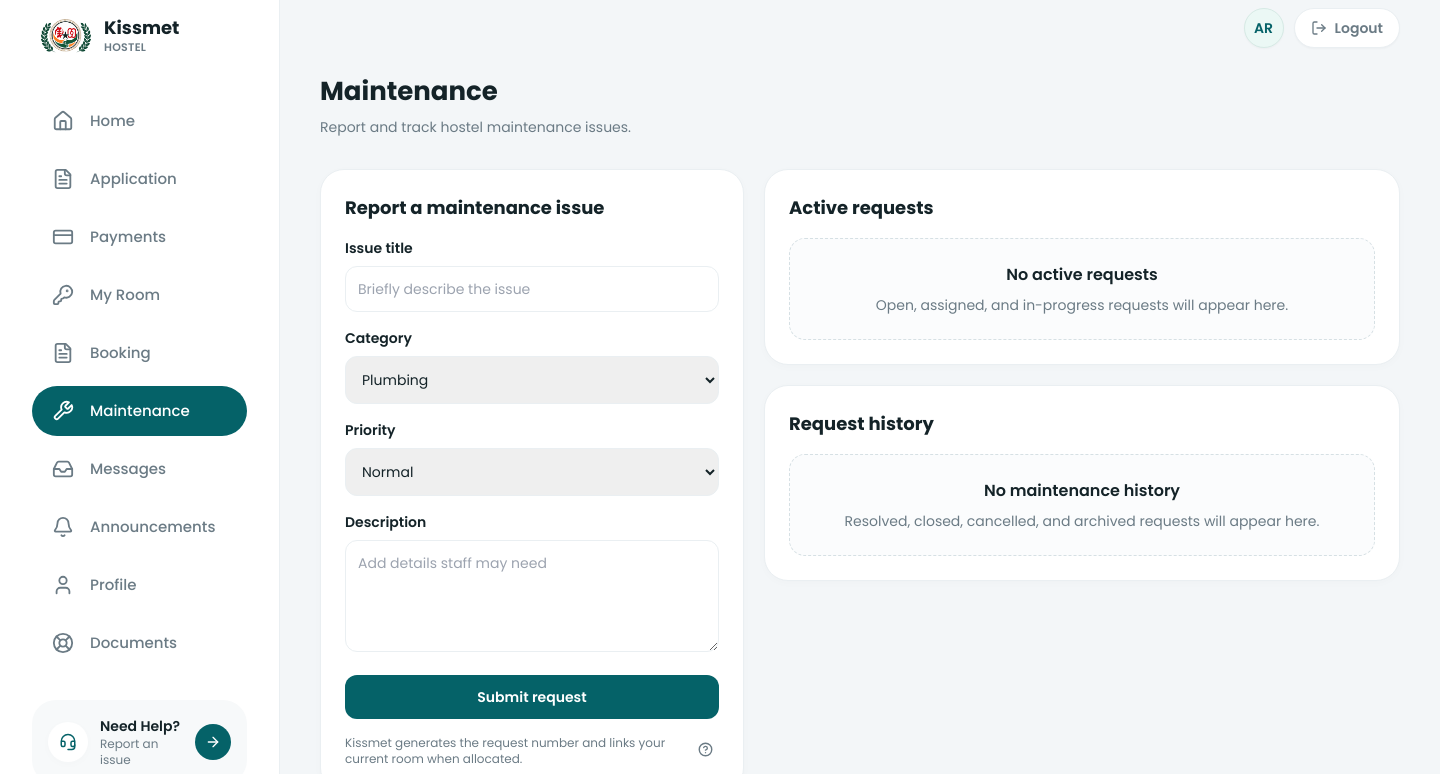
resident maintenance › validates required title and handles backend failures
The width and height of the screenshot is (1440, 774).
expect the heading "No active requests" is shown: met, box [1006, 263, 1158, 286]
Click the button "Submit request" at (532, 697), box [345, 675, 719, 719]
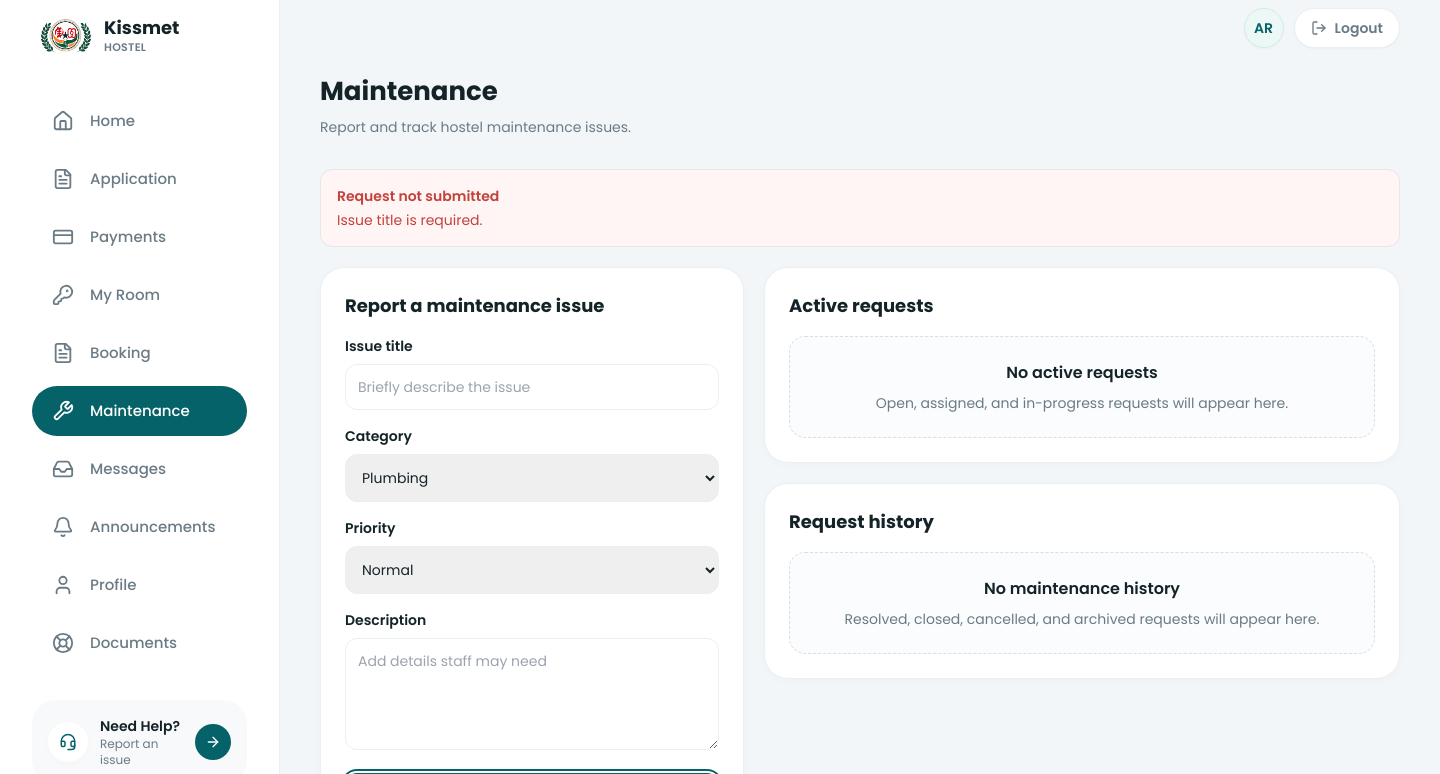
expect the text "Issue title is required." is shown: met, box [337, 210, 482, 230]
Type "Broken window" into the field labelled "Issue title" at (532, 387), box [345, 364, 719, 410]
(page scrolled)
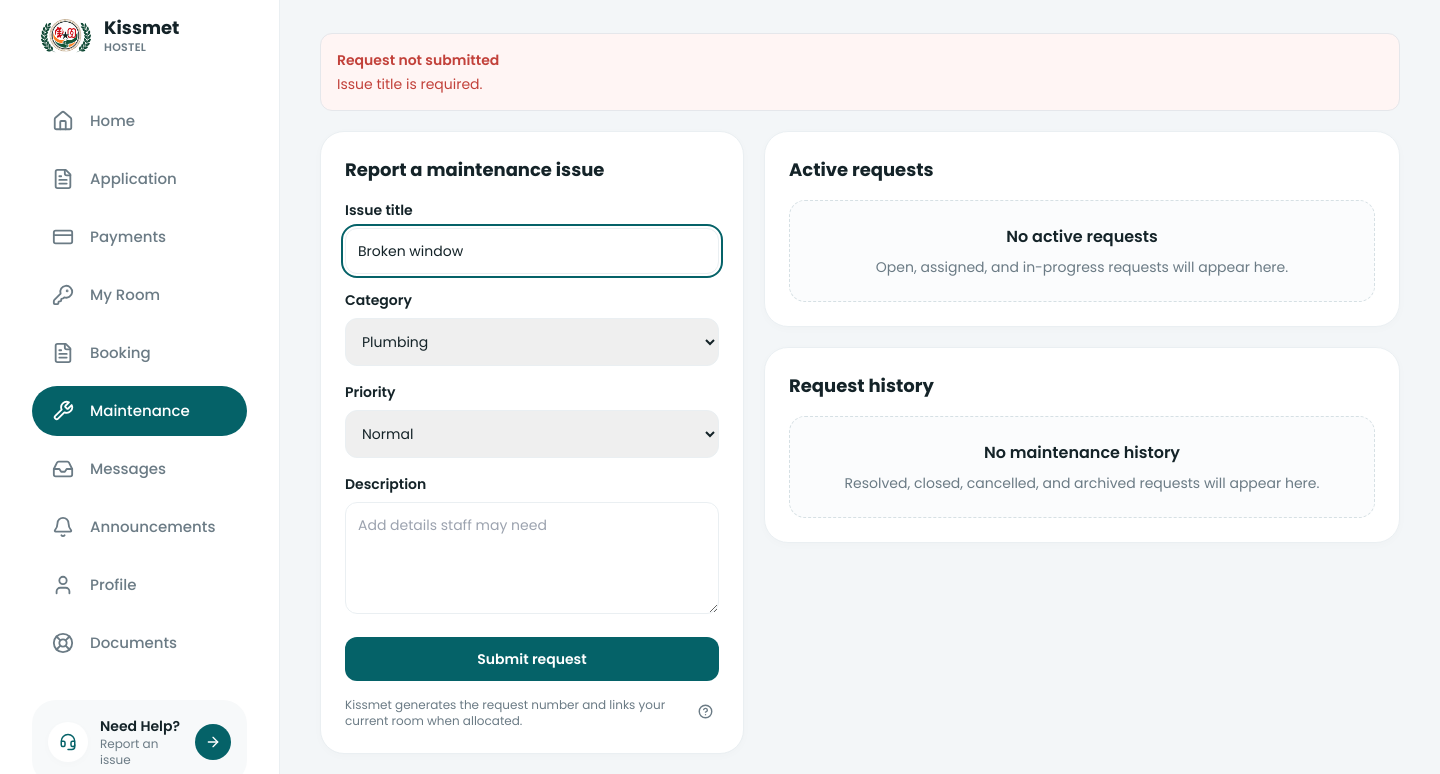
Click the button "Submit request" at (532, 659), box [345, 637, 719, 681]
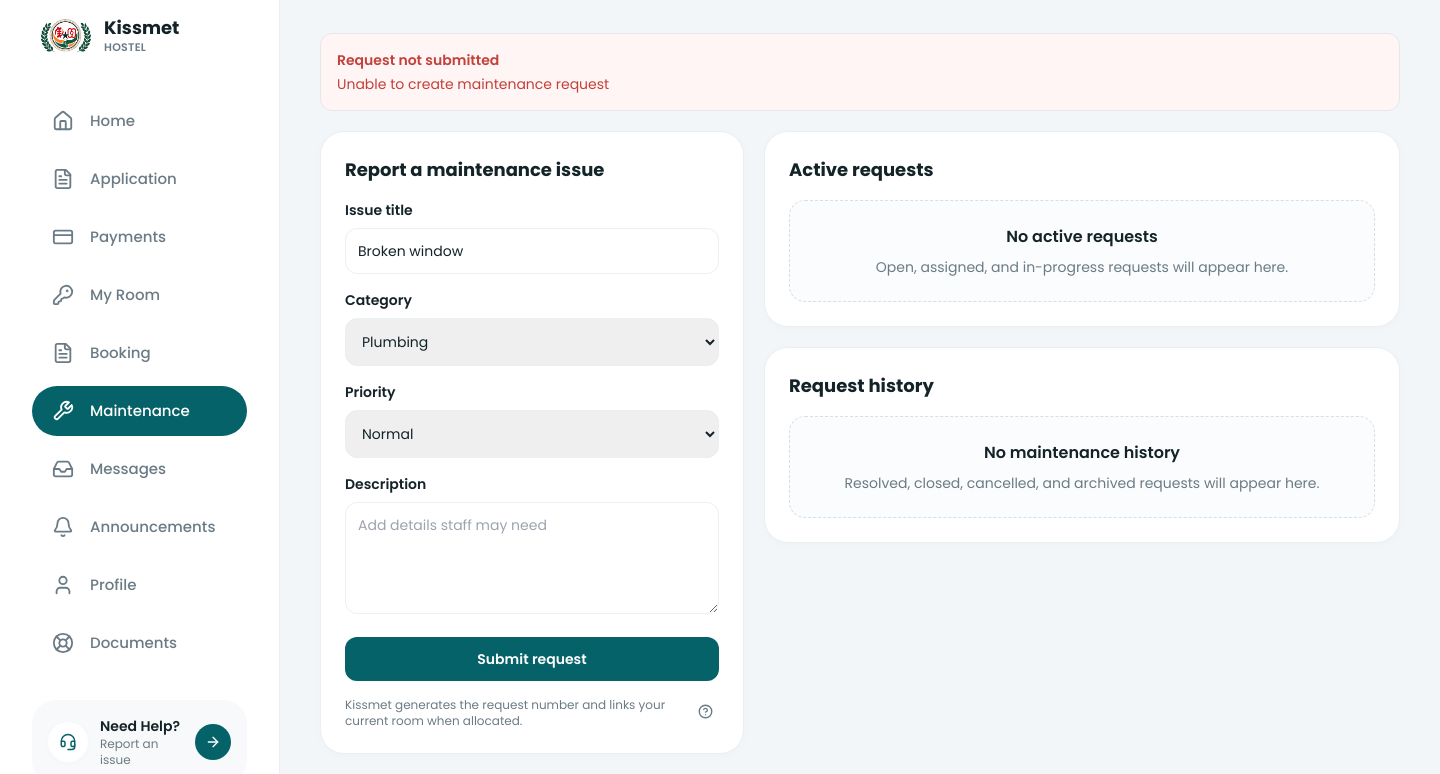
expect the text "Unable to create maintenance request" is shown: met, box [337, 74, 609, 94]
